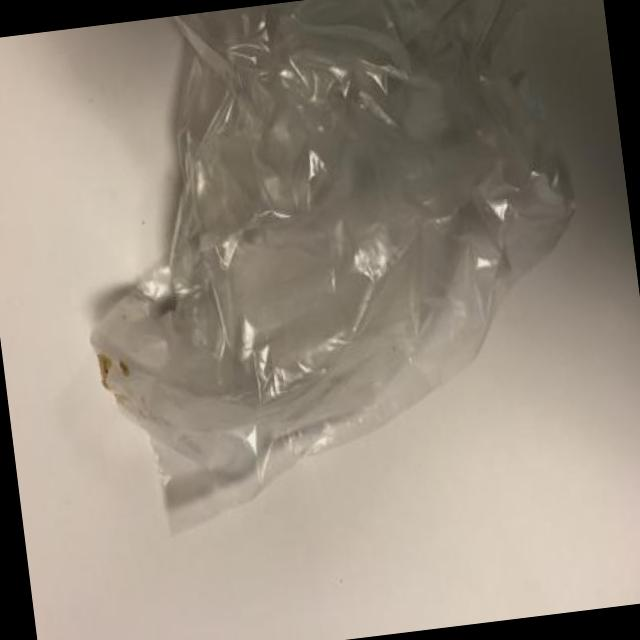tui_ni_long: (88, 0, 577, 534)
